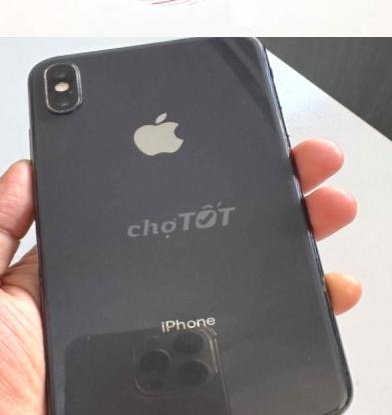scratch: (74, 65, 91, 103), (23, 64, 41, 80)
